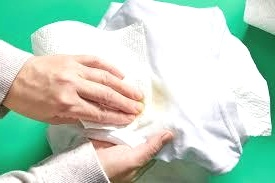oil: (153, 84, 170, 105)
